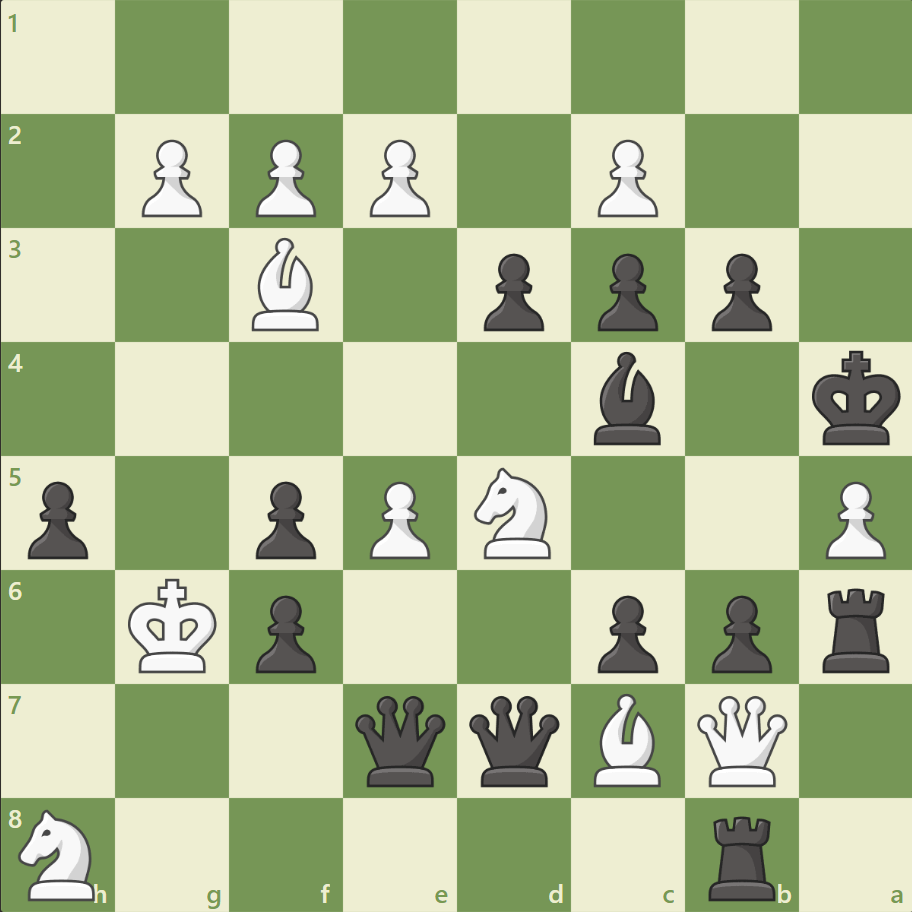B: (585, 687, 669, 790), (244, 233, 328, 336)
K: (124, 571, 224, 679)
N: (465, 461, 562, 564), (11, 802, 108, 904)
P: (247, 132, 322, 223), (133, 132, 208, 223), (815, 473, 889, 564), (361, 473, 435, 564), (588, 132, 662, 223), (361, 132, 435, 223)
Q: (691, 690, 790, 789)
b: (585, 347, 669, 449)
k: (806, 344, 906, 452)
p: (701, 586, 776, 677), (247, 586, 322, 677), (247, 473, 322, 564), (20, 473, 95, 564), (701, 246, 776, 337), (474, 246, 549, 337), (588, 586, 662, 677), (588, 246, 662, 337)
q: (464, 690, 563, 789), (351, 690, 450, 789)
r: (700, 806, 783, 904), (814, 579, 897, 676)
